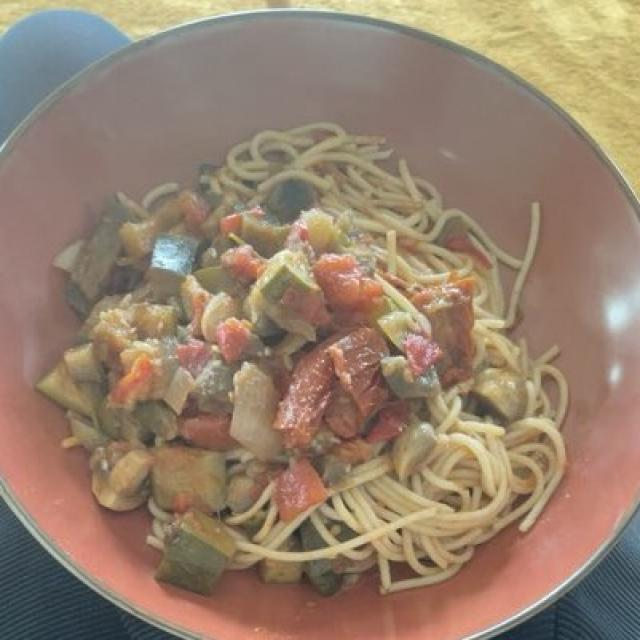pasta: (194, 125, 566, 582)
ratatouille: (48, 184, 504, 599)
